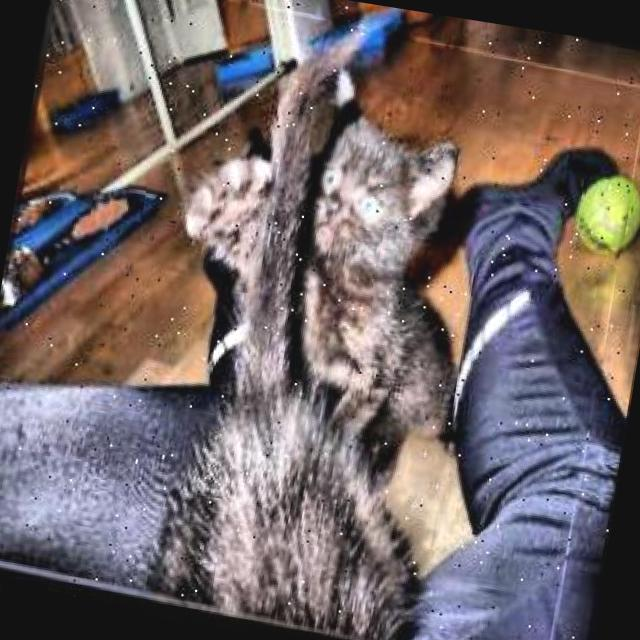Tennis Ball: (569, 166, 640, 265)
